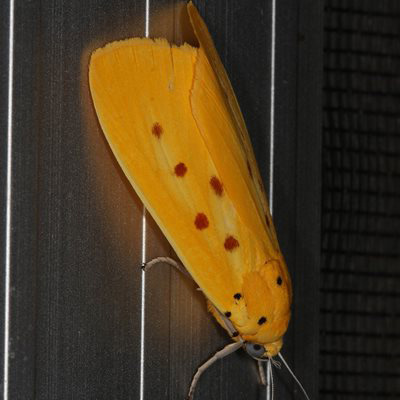Agape chloropyga: (85, 33, 314, 400)
moth: (84, 33, 313, 400)
